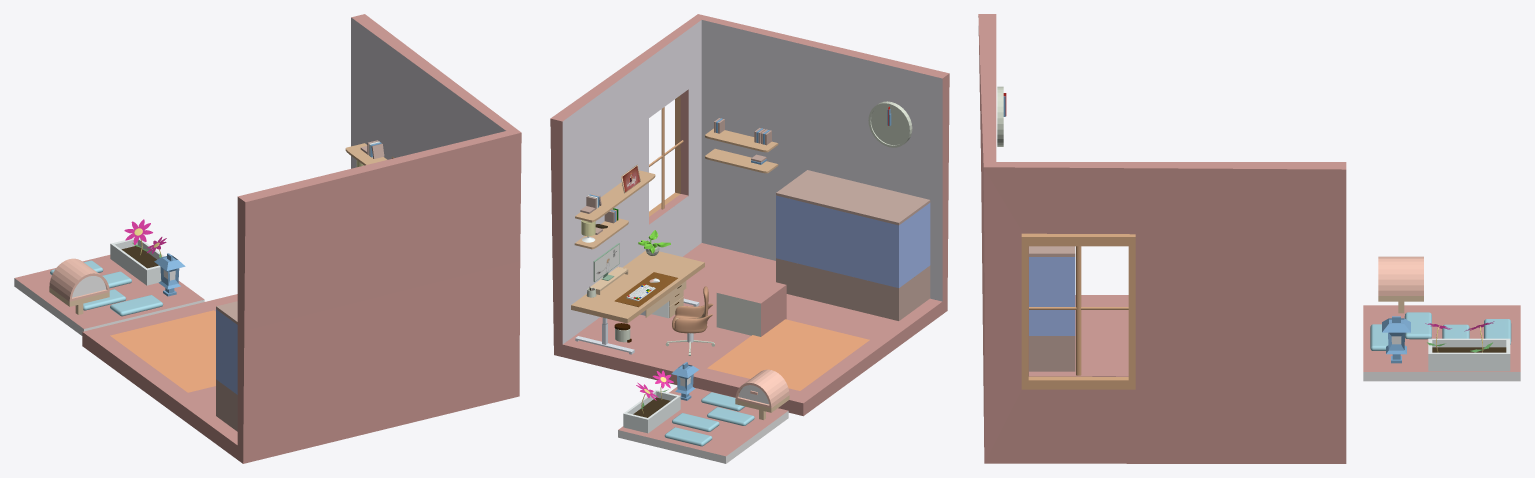
The model's file is room.glb.
3 renders of one model, left to right at view 1: azimuth 30°, elevation 25°; view 2: azimuth 150°, elevation 25°; view 3: azimuth 270°, elevation 25°, orthographic. The views are drawn at different scales.
Visible parts, largest first — view 1: room, carpet, road, road_mail_box, road_flower_pot, fish_tank, tank_base, road_lamp, road_path; view 2: room, fish_tank, tank_base, carpet, road, table_board, loading_cube, wall_shelf, road_mail_box, road_flower_pot, clock_base, books (+10 smaller); view 3: room, road, fish_tank, road_flower_pot, tank_base, road_mail_box, road_lamp, road_path.003, road_path.001.
Part boxes in pixels (bbox=[...]): room: bbox=[82, 14, 521, 463]; carpet: bbox=[110, 310, 215, 392]; road: bbox=[14, 255, 204, 335]; road_mail_box: bbox=[49, 258, 109, 314]; road_flower_pot: bbox=[110, 238, 164, 285]; fish_tank: bbox=[216, 309, 237, 394]; tank_base: bbox=[216, 301, 237, 431]; road_lamp: bbox=[154, 253, 185, 296]; road_path: bbox=[110, 295, 163, 316]; room: bbox=[550, 14, 949, 416]; fish_tank: bbox=[776, 195, 930, 287]; tank_base: bbox=[776, 170, 930, 320]; carpet: bbox=[707, 319, 869, 390]; road: bbox=[618, 387, 788, 463]; table_board: bbox=[571, 250, 704, 323]; loading_cube: bbox=[716, 274, 786, 336]; wall_shelf: bbox=[574, 128, 778, 249]; road_mail_box: bbox=[735, 369, 789, 419]; road_flower_pot: bbox=[623, 390, 680, 433]; clock_base: bbox=[868, 101, 912, 147]; books: bbox=[580, 118, 771, 234]; room: bbox=[978, 14, 1346, 463]; road: bbox=[1363, 305, 1520, 381]; fish_tank: bbox=[1029, 257, 1075, 335]; road_flower_pot: bbox=[1428, 338, 1510, 371]; tank_base: bbox=[1029, 246, 1075, 371]; road_mail_box: bbox=[1378, 256, 1423, 313]; road_lamp: bbox=[1382, 316, 1410, 363]; road_path.003: bbox=[1404, 312, 1431, 339]; road_path.001: bbox=[1484, 319, 1511, 344].
Bounding box in the file's own units: 9.01 × 7.98 × 13.19.
Materials: 47 (2 with a texture image).
